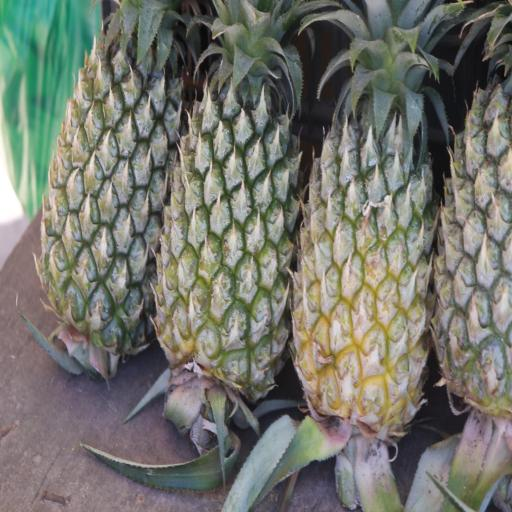------------------------------: (284, 0, 442, 451)
